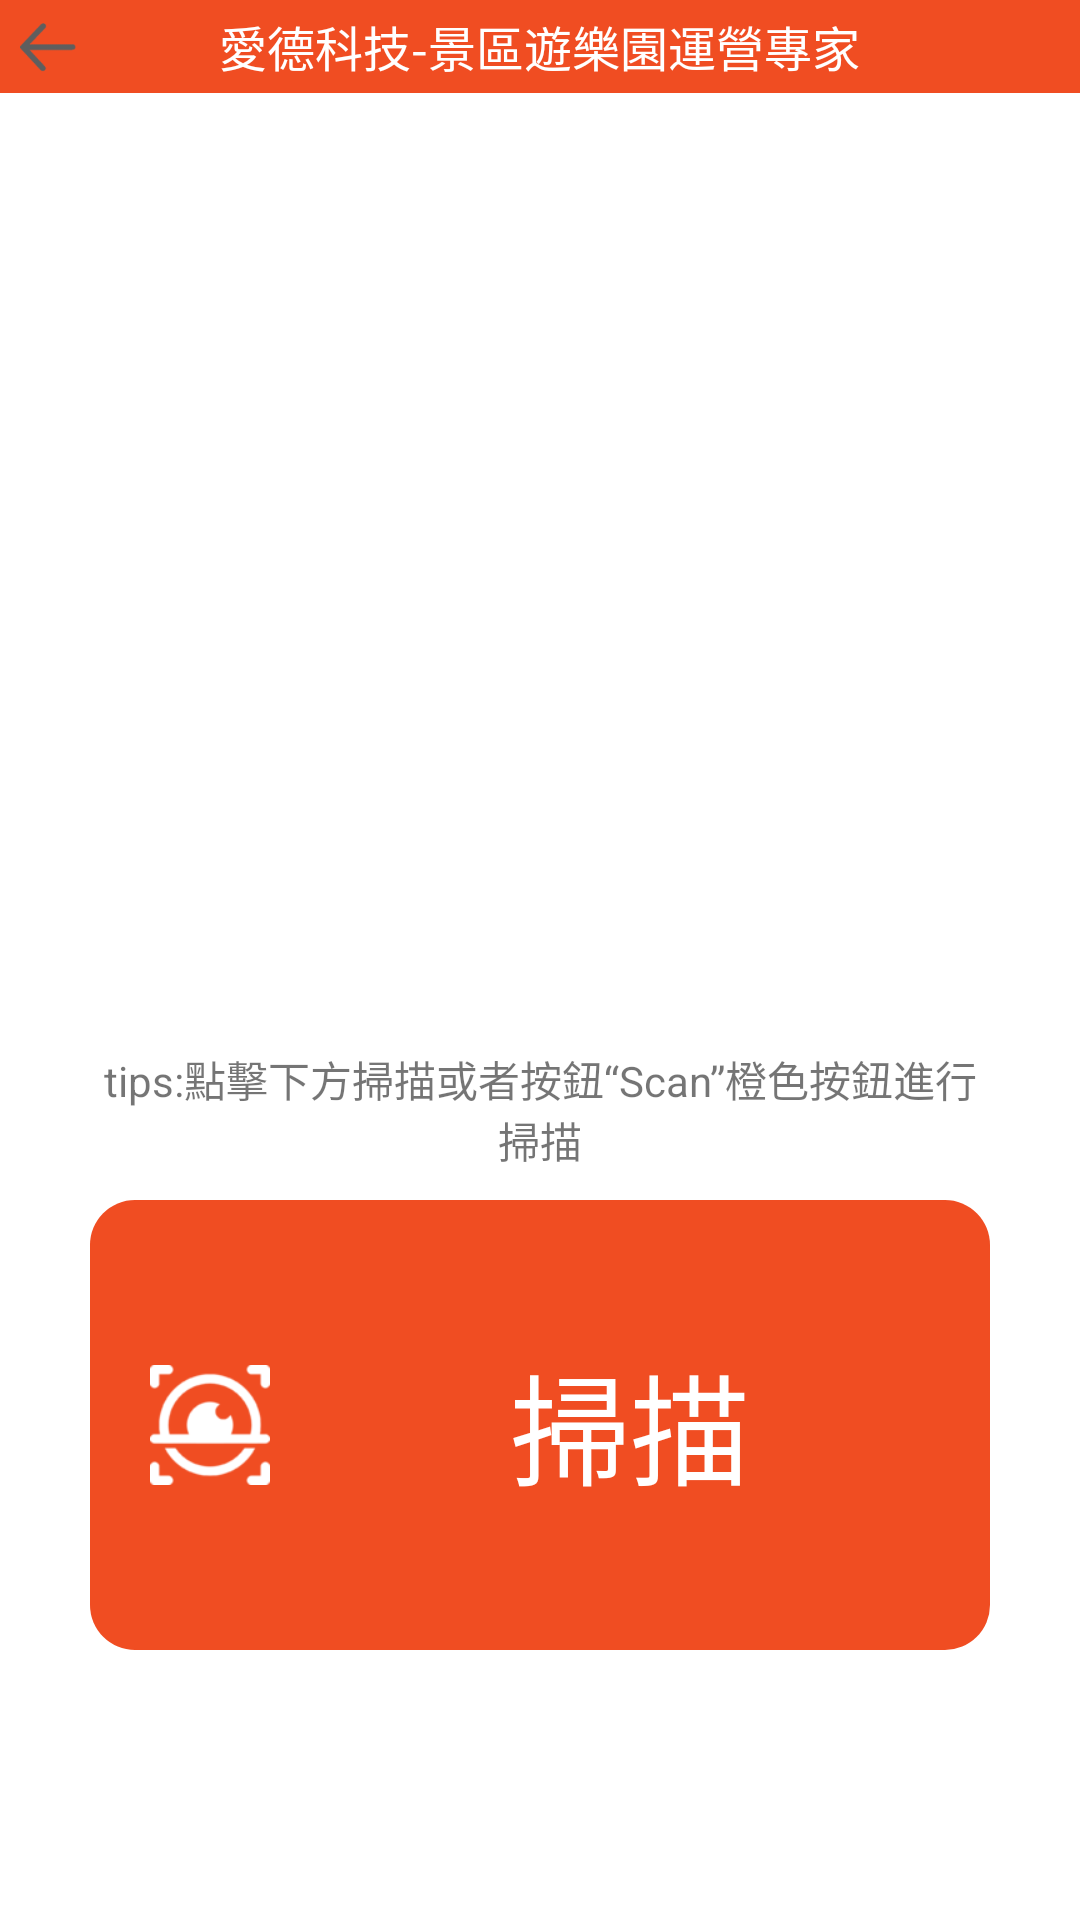

Icon bounding boxes for this 1080×1920 phone screenshot, format bbox=(x1, y1, x2, y2):
saomiao: bbox=(150, 1365, 270, 1485)
set back: bbox=(20, 23, 76, 71)
